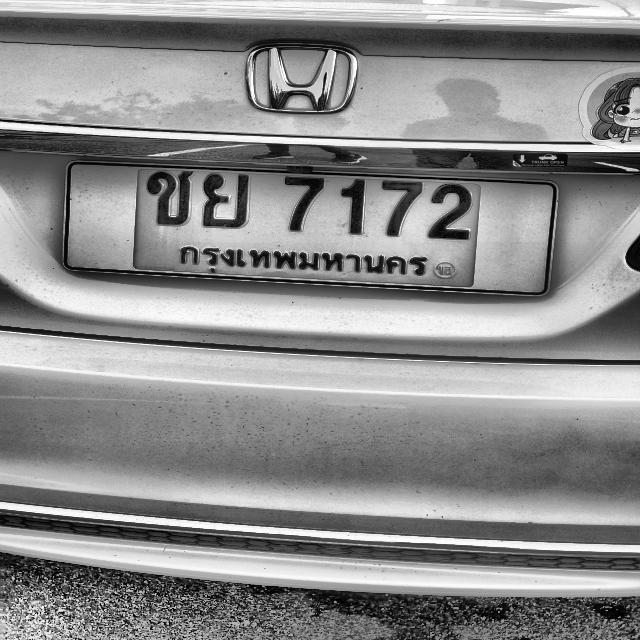license-plate: (61, 150, 563, 298)
